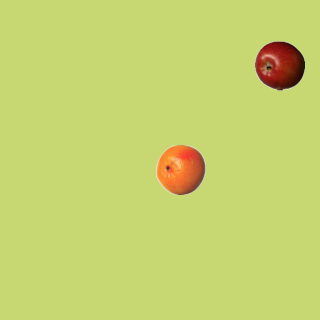Apple Braeburn: (254, 40, 304, 90)
Grapefruit Pink: (155, 144, 205, 194)
